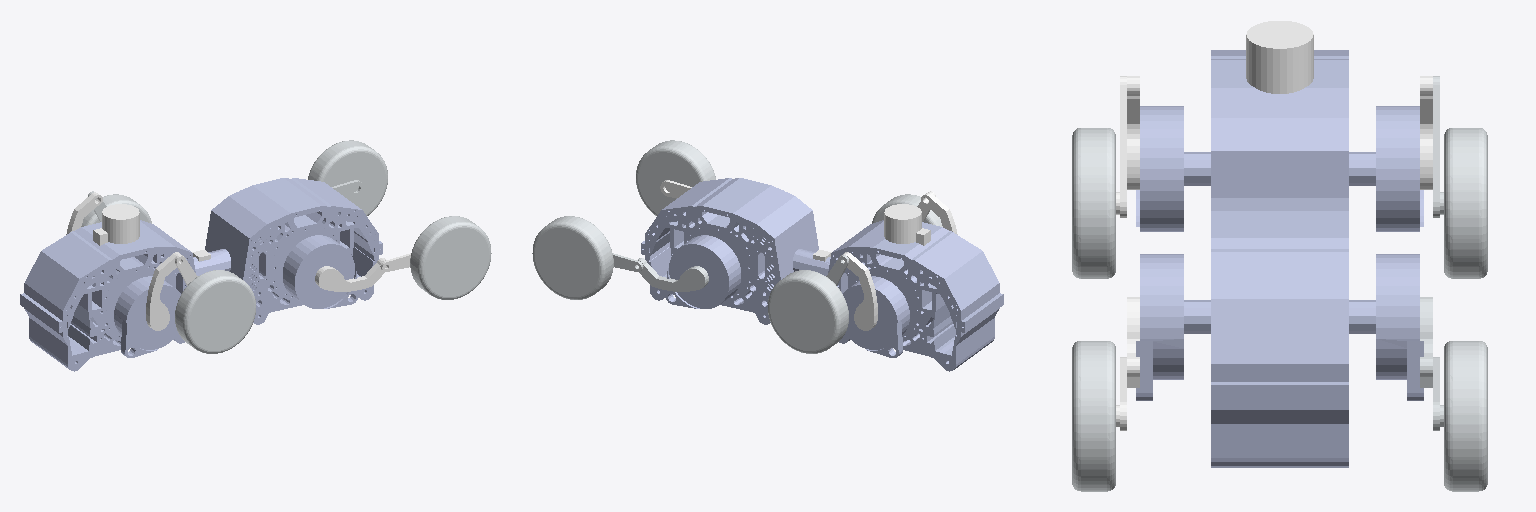
URDF robot description (xingtian_sym_model):
<?xml version="1.0" encoding="utf-8"?>
<!-- This URDF was automatically created by SolidWorks to URDF Exporter! Originally created by [author] ([email redacted]) 
     Commit Version: 1.6.0-1-g15f4949  Build Version: 1.6.7594.29634
     For more information, please see http://wiki.ros.org/sw_urdf_exporter -->
<robot
  name="xingtian_sym_model">
  <mujoco>
    <compiler
      meshdir = "../meshes/" 
      balanceinertia="true" 
      doscardvisual="false" />
  </mujoco>
  <link 
     name="world">
  </link>
  <joint name="world_joint" type="fixed">
    <origin
        xyz="0 0 0"
        rpy="0 0 0" />
     <parent link="world"/>
     <child link="base_link"/>
  </joint>
  <link
    name="base_link">
    <inertial>
      <origin
        xyz="-3.2632E-06 2.8538E-07 -0.00055079"
        rpy="0 0 0" />
      <mass
        value="26.135" />
      <inertia
        ixx="0.13317"
        ixy="2.3961E-06"
        ixz="-1.025E-05"
        iyy="0.96411"
        iyz="-5.4234E-11"
        izz="0.91536" />
    </inertial>
    <visual>
      <origin
        xyz="0 0 0"
        rpy="0 0 0" />
      <geometry>
        <mesh
          filename="../meshes/base_link.STL" />
      </geometry>
      <material
        name="">
        <color
          rgba="0.79608 0.82353 0.93725 1" />
      </material>
    </visual>
    <collision>
      <origin
        xyz="0 0 0"
        rpy="0 0 0" />
      <geometry>
        <mesh
          filename="../meshes/base_link.STL" />
      </geometry>
    </collision>
  </link>
  <link
    name="imu_link">
    <inertial>
      <origin
        xyz="5.5511E-17 0 -0.005"
        rpy="0 0 0" />
      <mass
        value="0.009" />
      <inertia
        ixx="7.5E-07"
        ixy="-1.1731E-22"
        ixz="-3.8933E-23"
        iyy="7.5E-07"
        iyz="1.4392E-22"
        izz="1.35E-06" />
    </inertial>
    <visual>
      <origin
        xyz="0 0 0"
        rpy="0 0 0" />
      <geometry>
        <mesh
          filename="../meshes/imu_link.STL" />
      </geometry>
      <material
        name="">
        <color
          rgba="1 1 1 1" />
      </material>
    </visual>
    <collision>
      <origin
        xyz="0 0 0"
        rpy="0 0 0" />
      <geometry>
        <mesh
          filename="../meshes/imu_link.STL" />
      </geometry>
    </collision>
  </link>
  <joint
    name="imu_joint"
    type="fixed">
    <origin
      xyz="0 0 0.0350983859380697"
      rpy="0 0 0" />
    <parent
      link="base_link" />
    <child
      link="imu_link" />
    <axis
      xyz="0 0 0" />
  </joint>
  <link name="camera_link">
    <visual>
      <origin
        xyz="0 0 0"
        rpy="0 0 0" />
        <geometry>
          <box size ="0.02 0.03 0.03" />
        </geometry>
      <material
        name="">
        <color
          rgba="1 1 1 1" />
      </material>
    </visual>
  </link>
  <joint
    name="camera_joint"
    type="fixed">
    <origin
      xyz="-0.25 0 0.13"
      rpy="0 0 3.1415926536" />
    <parent
      link="base_link" />
    <child
      link="camera_link" />
  </joint>
  <link name="laser_link">
    <visual>
      <origin
        xyz="0 0 0"
        rpy="0 0 0" />
         <geometry>
          <cylinder length ="0.06" radius = "0.04" />
        </geometry>
      <material
        name="red">
        <color
          rgba="1 1 1 1" />
      </material>
    </visual>
    </link>
  <joint
    name="laser_joint"
    type="fixed">
    <origin
      xyz="-0.2 0 0.15"
      rpy="0 0 3.1415926" />
    <parent
      link="base_link" />
    <child
      link="laser_link" />
  </joint>

  <link
    name="LF_hip">
    <inertial>
      <origin
        xyz="-0.038059 -0.0086135 -0.030705"
        rpy="0 0 0" />
      <mass
        value="0.25238" />
      <inertia
        ixx="0.00036585"
        ixy="5.8927E-06"
        ixz="-0.00028744"
        iyy="0.00068824"
        iyz="4.7541E-06"
        izz="0.00033564" />
    </inertial>
    <visual>
      <origin
        xyz="0 0 0"
        rpy="0 0 0" />
      <geometry>
        <mesh
          filename="../meshes/LF_hip.STL" />
      </geometry>
      <material
        name="">
        <color
          rgba="0.89804 0.91765 0.92941 1" />
      </material>
    </visual>
    <collision>
      <origin
        xyz="0 0 0"
        rpy="0 0 0" />
      <geometry>
        <mesh
          filename="../meshes/LF_hip.STL" />
      </geometry>
    </collision>
  </link>
  <joint
    name="LF_hip_joint"
    type="revolute">
    <origin
      xyz="0.20857 0.1825 -0.00081409"
      rpy="0 -2.18 0" />
    <parent
      link="base_link" />
    <child
      link="LF_hip" />
    <axis
      xyz="0 -1 0" />
    <limit
      lower="-3.14"
      upper="3.14"
      effort="10000"
      velocity="10" />
  </joint>
  <link
    name="LF_knee">
    <inertial>
      <origin
        xyz="0.04128 0.020491 -0.068957"
        rpy="0 0 0" />
      <mass
        value="0.10231" />
      <inertia
        ixx="0.0001662"
        ixy="-1.5377E-06"
        ixz="9.4256E-05"
        iyy="0.00022972"
        iyz="2.5686E-06"
        izz="6.5171E-05" />
    </inertial>
    <visual>
      <origin
        xyz="0 0 0"
        rpy="0 0 0" />
      <geometry>
        <mesh
          filename="../meshes/LF_knee.STL" />
      </geometry>
      <material
        name="">
        <color
          rgba="0.89804 0.91765 0.92941 1" />
      </material>
    </visual>
    <collision>
      <origin
        xyz="0 0 0"
        rpy="0 0 0" />
      <geometry>
        <mesh
          filename="../meshes/LF_knee.STL" />
      </geometry>
    </collision>
  </link>
  <joint
    name="LF_knee_joint"
    type="revolute">
    <origin
      xyz="-0.0806 -0.016 -0.11447"
      rpy="0 1.14 0" />
    <parent
      link="LF_hip" />
    <child
      link="LF_knee" />
    <axis
      xyz="0 -1 0" />
    <limit
      lower="-3.14"
      upper="3.14"
      effort="10000"
      velocity="10" />
  </joint>
  <link
    name="LF_wheel">
    <inertial>
      <origin
        xyz="-2.098E-14 0.039 1.4239E-14"
        rpy="0 0 0" />
      <mass
        value="3.5088" />
      <inertia
        ixx="0.0077572"
        ixy="1.7668E-18"
        ixz="5.8425E-19"
        iyy="0.013977"
        iyz="-4.9685E-18"
        izz="0.0077572" />
    </inertial>
    <visual>
      <origin
        xyz="0 0 0"
        rpy="0 0 0" />
      <geometry>
        <mesh
          filename="../meshes/LF_wheel.STL" />
      </geometry>
      <material
        name="">
        <color
          rgba="0.89804 0.91765 0.92941 1" />
      </material>
    </visual>
    <collision>
      <origin
        xyz="0 0 0"
        rpy="0 0 0" />
      <geometry>
        <mesh
          filename="../meshes/LF_wheel.STL" />
      </geometry>
    </collision>
  </link>
  <joint
    name="LF_wheel_joint"
    type="revolute">
    <origin
      xyz="0.071909 0.016 -0.12012"
      rpy="0 0 0" />
    <parent
      link="LF_knee" />
    <child
      link="LF_wheel" />
    <axis
      xyz="0 -1 0" />
    <limit  lower="-6.28318" upper="6.28318"
          effort="10000" velocity="50"/>
  </joint>
  <link
    name="LR_hip">
    <inertial>
      <origin
        xyz="0.038059 -0.0086135 -0.030705"
        rpy="0 0 0" />
      <mass
        value="0.25238" />
      <inertia
        ixx="0.00036585"
        ixy="-5.8927E-06"
        ixz="0.00028744"
        iyy="0.00068824"
        iyz="4.7541E-06"
        izz="0.00033564" />
    </inertial>
    <visual>
      <origin
        xyz="0 0 0"
        rpy="0 0 0" />
      <geometry>
        <mesh
          filename="../meshes/LR_hip.STL" />
      </geometry>
      <material
        name="">
        <color
          rgba="1 1 1 1" />
      </material>
    </visual>
    <collision>
      <origin
        xyz="0 0 0"
        rpy="0 0 0" />
      <geometry>
        <mesh
          filename="../meshes/LR_hip.STL" />
      </geometry>
    </collision>
  </link>
  <joint
    name="LR_hip_joint"
    type="revolute">
    <origin
      xyz="-0.20857 0.1825 -0.00081409"
      rpy="0 -2.18 0" />
    <parent
      link="base_link" />
    <child
      link="LR_hip" />
    <axis
      xyz="0 -1 0" />
    <limit
      lower="-3.14"
      upper="3.14"
      effort="10000"
      velocity="10" />
  </joint>
  <link
    name="LR_knee">
    <inertial>
      <origin
        xyz="-0.04128 0.020491 -0.068957"
        rpy="0 0 0" />
      <mass
        value="0.10231" />
      <inertia
        ixx="0.0001662"
        ixy="1.5377E-06"
        ixz="-9.4256E-05"
        iyy="0.00022972"
        iyz="2.5686E-06"
        izz="6.5171E-05" />
    </inertial>
    <visual>
      <origin
        xyz="0 0 0"
        rpy="0 0 0" />
      <geometry>
        <mesh
          filename="../meshes/LR_knee.STL" />
      </geometry>
      <material
        name="">
        <color
          rgba="0.89804 0.91765 0.92941 1" />
      </material>
    </visual>
    <collision>
      <origin
        xyz="0 0 0"
        rpy="0 0 0" />
      <geometry>
        <mesh
          filename="../meshes/LR_knee.STL" />
      </geometry>
    </collision>
  </link>
  <joint
    name="LR_knee_joint"
    type="revolute">
    <origin
      xyz="0.0806 -0.016 -0.11447"
      rpy="0 1.14 0" />
    <parent
      link="LR_hip" />
    <child
      link="LR_knee" />
    <axis
      xyz="0 -1 0" />
    <limit
      lower="-3.14"
      upper="3.14"
      effort="10000"
      velocity="10" />
  </joint>
  <link
    name="LR_wheel">
    <inertial>
      <origin
        xyz="5.5511E-17 0.039 -5.5511E-17"
        rpy="0 0 0" />
      <mass
        value="3.5088" />
      <inertia
        ixx="0.0077572"
        ixy="-1.4582E-18"
        ixz="1.2319E-19"
        iyy="0.013977"
        iyz="-3.7087E-18"
        izz="0.0077572" />
    </inertial>
    <visual>
      <origin
        xyz="0 0 0"
        rpy="0 0 0" />
      <geometry>
        <mesh
          filename="../meshes/LR_wheel.STL" />
      </geometry>
      <material
        name="">
        <color
          rgba="0.89804 0.91765 0.92941 1" />
      </material>
    </visual>
    <collision>
      <origin
        xyz="0 0 0"
        rpy="0 0 0" />
      <geometry>
        <mesh
          filename="../meshes/LR_wheel.STL" />
      </geometry>
    </collision>
  </link>
  <joint
    name="LR_wheel_joint"
    type="revolute">
    <origin
      xyz="-0.071909 0.016 -0.12012"
      rpy="0 0 0" />
    <parent
      link="LR_knee" />
    <child
      link="LR_wheel" />
    <axis
      xyz="0 -1 0" />
    <limit  lower="-6.28318" upper="6.28318"
          effort="10000" velocity="50"/>
  </joint>
  <link
    name="RR_hip">
    <inertial>
      <origin
        xyz="0.038059 0.0086135 -0.030705"
        rpy="0 0 0" />
      <mass
        value="0.25238" />
      <inertia
        ixx="0.00036585"
        ixy="5.8927E-06"
        ixz="0.00028744"
        iyy="0.00068824"
        iyz="-4.7541E-06"
        izz="0.00033564" />
    </inertial>
    <visual>
      <origin
        xyz="0 0 0"
        rpy="0 0 0" />
      <geometry>
        <mesh
          filename="../meshes/RR_hip.STL" />
      </geometry>
      <material
        name="">
        <color
          rgba="1 1 1 1" />
      </material>
    </visual>
    <collision>
      <origin
        xyz="0 0 0"
        rpy="0 0 0" />
      <geometry>
        <mesh
          filename="../meshes/RR_hip.STL" />
      </geometry>
    </collision>
  </link>
  <joint
    name="RR_hip_joint"
    type="revolute">
    <origin
      xyz="-0.20857 -0.1825 -0.00081409"
      rpy="0 -2.18 0" />
    <parent
      link="base_link" />
    <child
      link="RR_hip" />
    <axis
      xyz="0 -1 0" />
    <limit
      lower="-3.14"
      upper="3.14"
      effort="10000"
      velocity="10" />
  </joint>
  <link
    name="RR_knee">
    <inertial>
      <origin
        xyz="-0.04128 -0.020491 -0.068957"
        rpy="0 0 0" />
      <mass
        value="0.10231" />
      <inertia
        ixx="0.0001662"
        ixy="-1.5377E-06"
        ixz="-9.4256E-05"
        iyy="0.00022972"
        iyz="-2.5686E-06"
        izz="6.5171E-05" />
    </inertial>
    <visual>
      <origin
        xyz="0 0 0"
        rpy="0 0 0" />
      <geometry>
        <mesh
          filename="../meshes/RR_knee.STL" />
      </geometry>
      <material
        name="">
        <color
          rgba="1 1 1 1" />
      </material>
    </visual>
    <collision>
      <origin
        xyz="0 0 0"
        rpy="0 0 0" />
      <geometry>
        <mesh
          filename="../meshes/RR_knee.STL" />
      </geometry>
    </collision>
  </link>
  <joint
    name="RR_knee_joint"
    type="revolute">
    <origin
      xyz="0.0806 0.016 -0.11447"
      rpy="0 1.14 0" />
    <parent
      link="RR_hip" />
    <child
      link="RR_knee" />
    <axis
      xyz="0 -1 0" />
    <limit
      lower="-3.14"
      upper="3.14"
      effort="10000"
      velocity="10" />
  </joint>
  <link
    name="RR_wheel">
    <inertial>
      <origin
        xyz="-1.1102E-16 -0.039 5.5511E-17"
        rpy="0 0 0" />
      <mass
        value="3.5088" />
      <inertia
        ixx="0.0077572"
        ixy="1.8465E-18"
        ixz="2.0004E-19"
        iyy="0.013977"
        iyz="4.9949E-18"
        izz="0.0077572" />
    </inertial>
    <visual>
      <origin
        xyz="0 0 0"
        rpy="0 0 0" />
      <geometry>
        <mesh
          filename="../meshes/RR_wheel.STL" />
      </geometry>
      <material
        name="">
        <color
          rgba="0.89804 0.91765 0.92941 1" />
      </material>
    </visual>
    <collision>
      <origin
        xyz="0 0 0"
        rpy="0 0 0" />
      <geometry>
        <mesh
          filename="../meshes/RR_wheel.STL" />
      </geometry>
    </collision>
  </link>
  <joint
    name="RR_wheel_joint"
    type="revolute">
    <origin
      xyz="-0.071909 -0.016 -0.12012"
      rpy="0 0 0" />
    <parent
      link="RR_knee" />
    <child
      link="RR_wheel" />
    <axis
      xyz="0 -1 0" />
    <limit  lower="-6.28318" upper="6.28318"
          effort="10000" velocity="50"/>
  </joint>
  <link
    name="RF_hip">
    <inertial>
      <origin
        xyz="-0.038059 0.0086135 -0.030705"
        rpy="0 0 0" />
      <mass
        value="0.25238" />
      <inertia
        ixx="0.00036585"
        ixy="-5.8927E-06"
        ixz="-0.00028744"
        iyy="0.00068824"
        iyz="-4.7541E-06"
        izz="0.00033564" />
    </inertial>
    <visual>
      <origin
        xyz="0 0 0"
        rpy="0 0 0" />
      <geometry>
        <mesh
          filename="../meshes/RF_hip.STL" />
      </geometry>
      <material
        name="">
        <color
          rgba="1 1 1 1" />
      </material>
    </visual>
    <collision>
      <origin
        xyz="0 0 0"
        rpy="0 0 0" />
      <geometry>
        <mesh
          filename="../meshes/RF_hip.STL" />
      </geometry>
    </collision>
  </link>
  <joint
    name="RF_hip_joint"
    type="revolute">
    <origin
      xyz="0.20857 -0.1825 -0.00081409"
      rpy="0 -2.18 0" />
    <parent
      link="base_link" />
    <child
      link="RF_hip" />
    <axis
      xyz="0 -1 0" />
    <limit
      lower="-3.14"
      upper="3.14"
      effort="10000"
      velocity="10" />
  </joint>
  <link
    name="RF_knee">
    <inertial>
      <origin
        xyz="0.04128 -0.020491 -0.068957"
        rpy="0 0 0" />
      <mass
        value="0.10231" />
      <inertia
        ixx="0.0001662"
        ixy="1.5377E-06"
        ixz="9.4256E-05"
        iyy="0.00022972"
        iyz="-2.5686E-06"
        izz="6.5171E-05" />
    </inertial>
    <visual>
      <origin
        xyz="0 0 0"
        rpy="0 0 0" />
      <geometry>
        <mesh
          filename="../meshes/RF_knee.STL" />
      </geometry>
      <material
        name="">
        <color
          rgba="1 1 1 1" />
      </material>
    </visual>
    <collision>
      <origin
        xyz="0 0 0"
        rpy="0 0 0" />
      <geometry>
        <mesh
          filename="../meshes/RF_knee.STL" />
      </geometry>
    </collision>
  </link>
  <joint
    name="RF_knee_joint"
    type="revolute">
    <origin
      xyz="-0.0806 0.016 -0.11447"
      rpy="0 1.14 0" />
    <parent
      link="RF_hip" />
    <child
      link="RF_knee" />
    <axis
      xyz="0 -1 0" />
    <limit
      lower="-3.14"
      upper="3.14"
      effort="10000"
      velocity="10" />
  </joint>
  <link
    name="RF_wheel">
    <inertial>
      <origin
        xyz="9.7145E-17 -0.039 -2.7756E-17"
        rpy="0 0 0" />
      <mass
        value="3.5088" />
      <inertia
        ixx="0.0077572"
        ixy="-1.6998E-18"
        ixz="5.8425E-19"
        iyy="0.013977"
        iyz="4.905E-18"
        izz="0.0077572" />
    </inertial>
    <visual>
      <origin
        xyz="0 0 0"
        rpy="0 0 0" />
      <geometry>
        <mesh
          filename="../meshes/RF_wheel.STL" />
      </geometry>
      <material
        name="">
        <color
          rgba="0.89804 0.91765 0.92941 1" />
      </material>
    </visual>
    <collision>
      <origin
        xyz="0 0 0"
        rpy="0 0 0" />
      <geometry>
        <mesh
          filename="../meshes/RF_wheel.STL" />
      </geometry>
    </collision>
  </link>
  <joint
    name="RF_wheel_joint"
    type="revolute">
    <origin
      xyz="0.071909 -0.016 -0.12012"
      rpy="0 0 0" />
    <parent
      link="RF_knee" />
    <child
      link="RF_wheel" />
    <axis
      xyz="0 -1 0" />
    <limit  lower="-6.28318" upper="6.28318"
          effort="10000" velocity="50"/>
  </joint>
</robot>

--- What the picture shows (computed from the rendered views, not written in the file) ---
The picture shows the robot from 3 angles, left to right: view 1: azimuth 30°, elevation 25°; view 2: azimuth 150°, elevation 25°; view 3: azimuth 270°, elevation 25°; orthographic projection.
Robot: xingtian_sym_model — 17 links, 16 joints (12 revolute, 4 fixed); root link world; default pose: all joints at 0.
Links seen in each view (by area): view 1: base_link, RR_wheel, RF_wheel, LF_wheel, laser_link, RR_hip, RF_hip, LR_wheel, LR_hip; view 2: base_link, LR_wheel, LF_wheel, RF_wheel, laser_link, LR_hip, LF_hip, RR_wheel, RR_hip; view 3: base_link, LR_wheel, RR_wheel, LF_wheel, RF_wheel, laser_link, LR_hip, RR_hip, LF_hip, RF_hip, LR_knee, RR_knee (+2 smaller).
Boxes of the visible links, x1,y1,x2,y2 form: base_link: (20,178,382,371); RR_wheel: (175,270,255,353); RF_wheel: (410,216,491,299); LF_wheel: (308,140,387,215); laser_link: (102,204,139,243); RR_hip: (146,252,182,330); RF_hip: (315,258,386,291); LR_wheel: (81,194,151,226); LR_hip: (66,192,102,234); base_link: (641,178,1003,371); LR_wheel: (768,270,848,353); LF_wheel: (532,216,613,299); RF_wheel: (636,140,715,215); laser_link: (884,204,921,243); LR_hip: (841,252,877,330); LF_hip: (637,258,708,291); RR_wheel: (872,194,942,226); RR_hip: (921,192,957,234); base_link: (1136,50,1423,467); LR_wheel: (1444,128,1487,278); RR_wheel: (1072,128,1115,278); LF_wheel: (1444,341,1487,491); RF_wheel: (1072,341,1115,491); laser_link: (1246,21,1313,93); LR_hip: (1420,76,1432,189); RR_hip: (1127,76,1139,189); LF_hip: (1420,297,1432,387); RF_hip: (1127,297,1139,387); LR_knee: (1433,76,1443,217); RR_knee: (1116,76,1126,217).
Bounding box of the posed robot: 0.9795 × 0.495 × 0.3067 m (x, y, z).
Meshes: 14 distinct files referenced, 14 mesh visuals loaded (14 binary STL).
